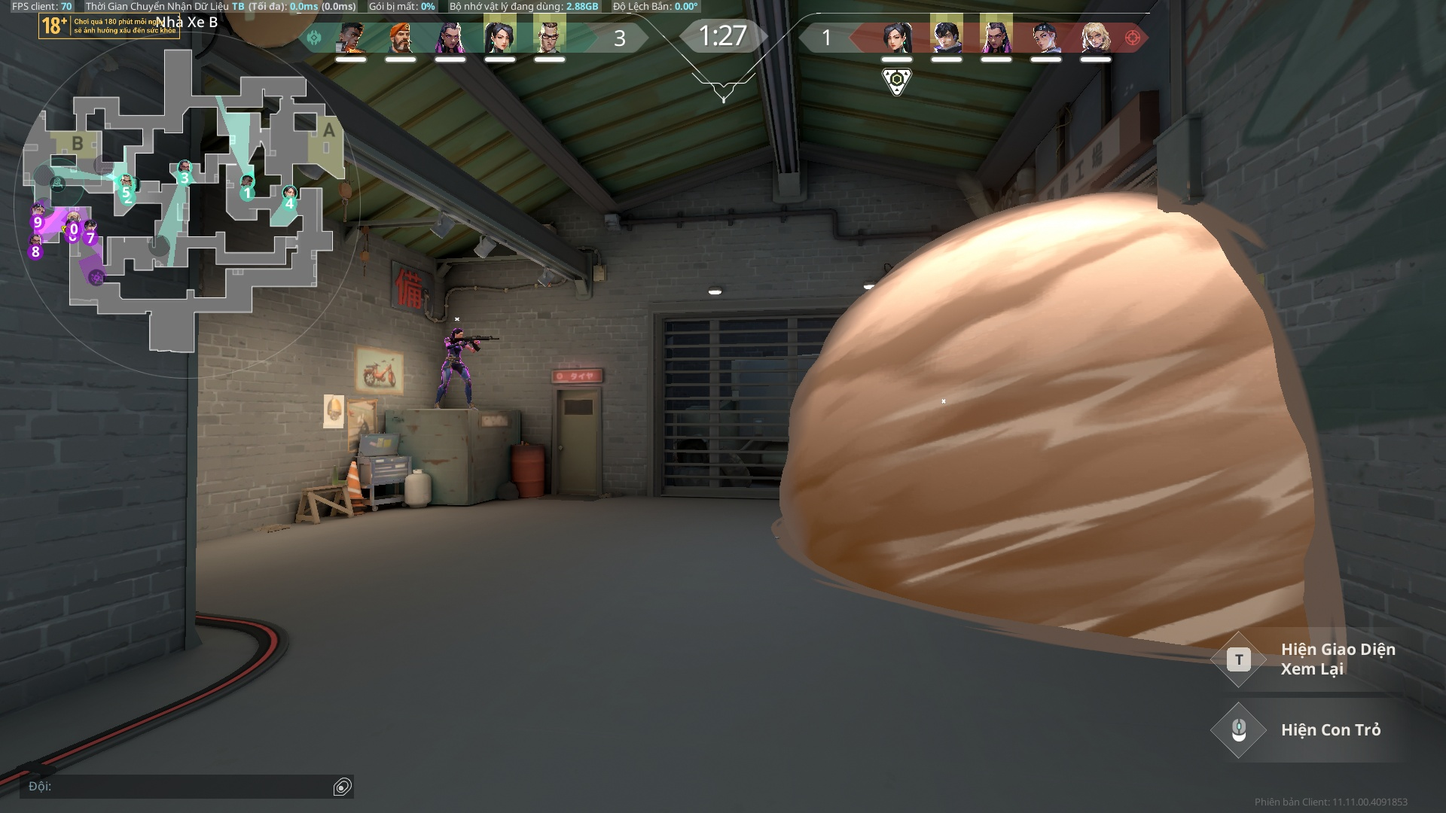body: (443, 335, 466, 364)
head: (451, 326, 462, 338)
